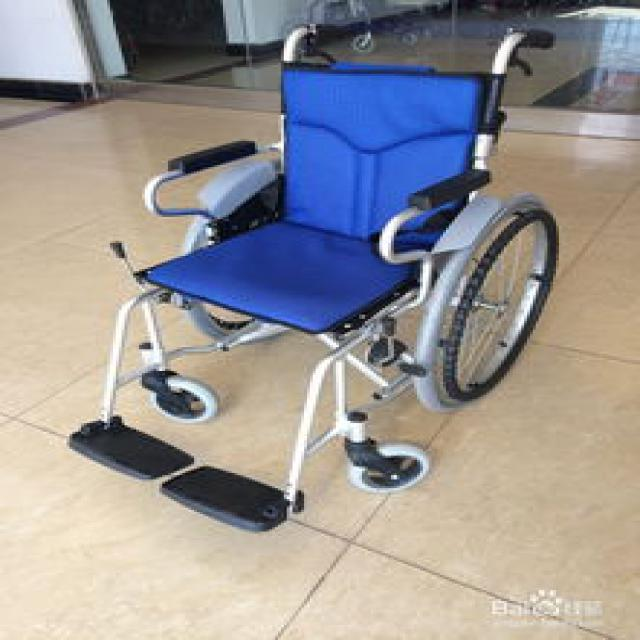wheelchair: (54, 0, 574, 532)
